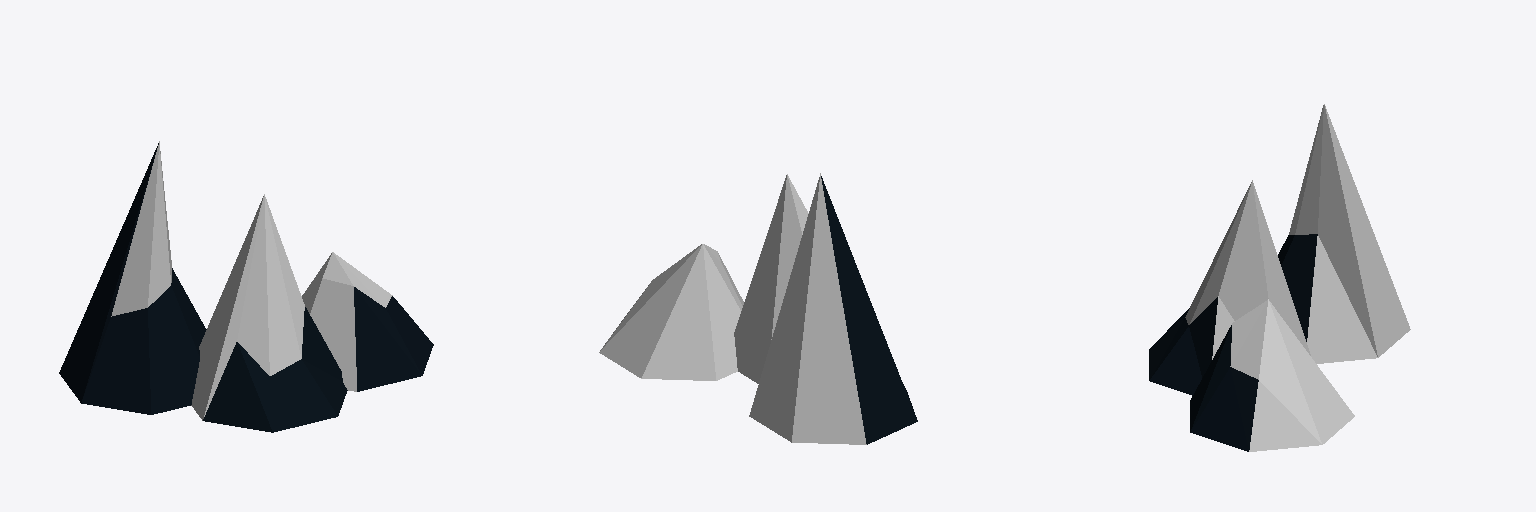
Rendered from mountain.obj.
3 views of the same model, side by side, from view 1: azimuth 30°, elevation 25°; view 2: azimuth 150°, elevation 25°; view 3: azimuth 270°, elevation 25° (orthographic).
Visible parts, largest first — view 1: Cone, Cone.002, Cone.001; view 2: Cone.002, Cone.001, Cone; view 3: Cone.002, Cone.001, Cone.
Part boxes in pixels (left/top/right/bottom): Cone: left=191, top=194, right=347, bottom=432; Cone.002: left=59, top=141, right=206, bottom=414; Cone.001: left=302, top=252, right=433, bottom=391; Cone.002: left=749, top=173, right=917, bottom=444; Cone.001: left=599, top=244, right=743, bottom=380; Cone: left=734, top=174, right=808, bottom=383; Cone.002: left=1278, top=104, right=1410, bottom=363; Cone.001: left=1190, top=299, right=1354, bottom=451; Cone: left=1149, top=180, right=1310, bottom=395.
Bounding box in the file's own units: 4.32 × 2.97 × 3.02.